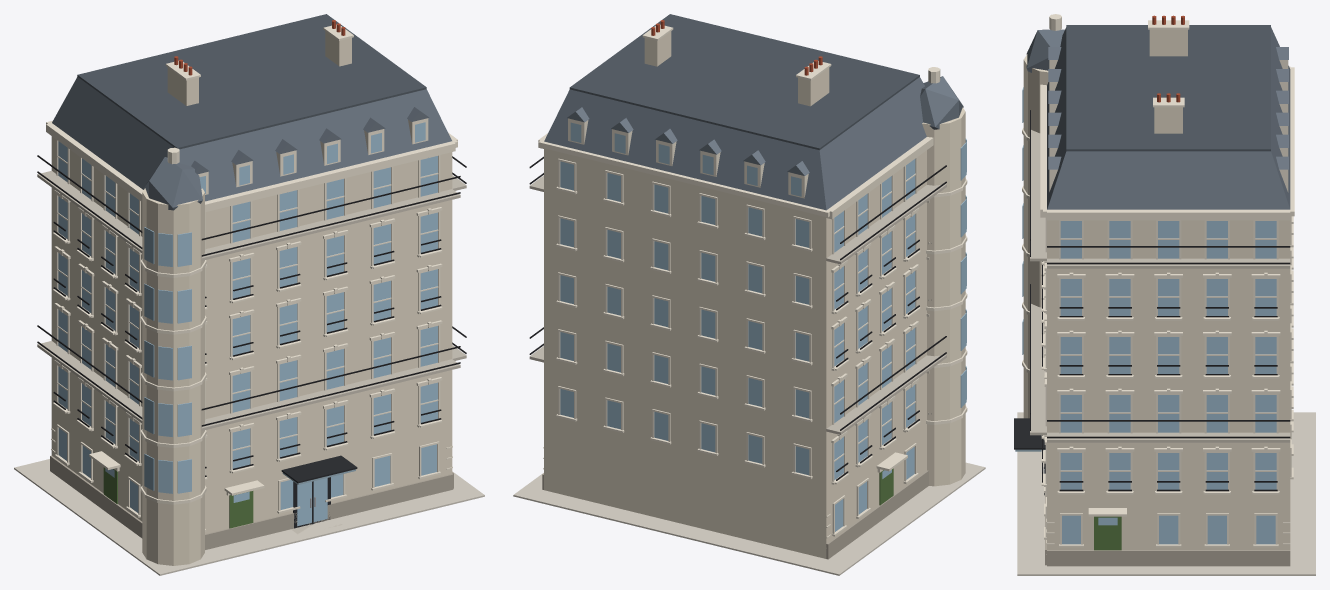
Rendered from Konut_ref_kira_Hafif.fbx.
3 views of the same model, side by side, from view 1: azimuth 30°, elevation 25°; view 2: azimuth 150°, elevation 25°; view 3: azimuth 270°, elevation 25° (orthographic). The views are drawn at different scales.
Parts seen in each view (by area): view 1: Konut_ref_kira_Hafif; view 2: Konut_ref_kira_Hafif; view 3: Konut_ref_kira_Hafif.
Part boxes in pixels (x1,y1,x2,y2): Konut_ref_kira_Hafif: (14,14,484,575); Konut_ref_kira_Hafif: (513,14,985,575); Konut_ref_kira_Hafif: (1014,14,1315,575).
Size of the model in its own units: 18 by 23.1 by 14.15.
